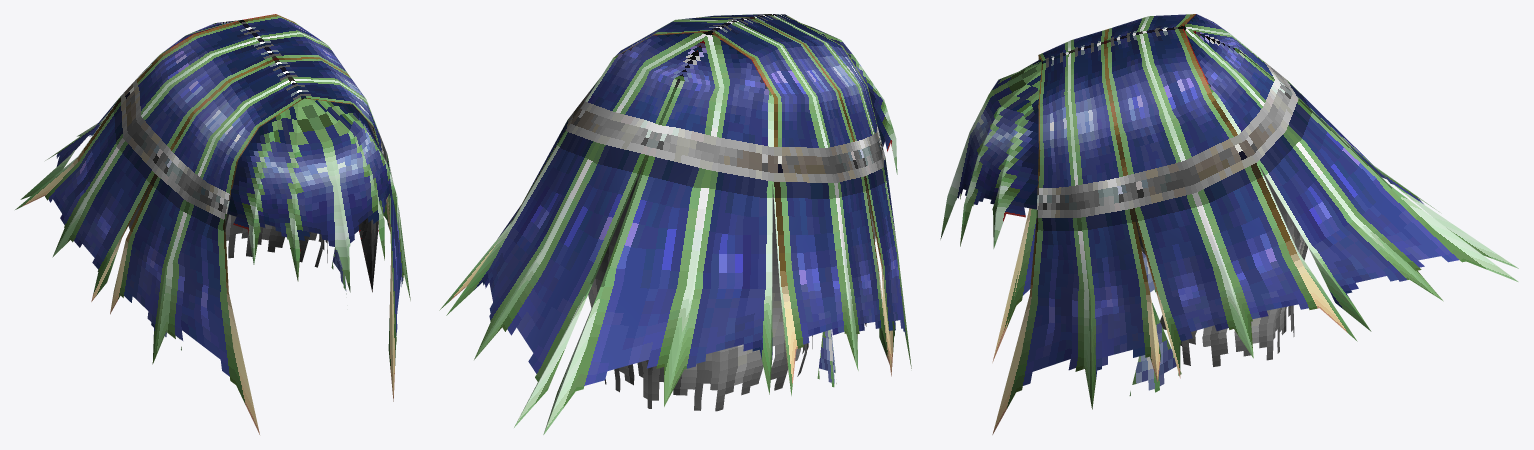
File: m_helmet093.obj
The picture shows the model from 3 angles, left to right: view 1: azimuth 30°, elevation 25°; view 2: azimuth 150°, elevation 25°; view 3: azimuth 270°, elevation 25°; orthographic projection. The views are drawn at different scales.
Visible parts, largest first — view 1: mesh01, mesh00; view 2: mesh01, mesh00; view 3: mesh01, mesh00.
Boxes of the visible parts, x1=… form: mesh01: x1=15, y1=14, x2=410, y2=434; mesh00: x1=128, y1=104, x2=378, y2=292; mesh01: x1=439, y1=14, x2=911, y2=434; mesh00: x1=588, y1=159, x2=875, y2=411; mesh01: x1=940, y1=14, x2=1518, y2=434; mesh00: x1=1134, y1=165, x2=1307, y2=366.
Bounding box in the file's own units: 26.39 × 27.08 × 38.1.
2 materials, 2 textured.
